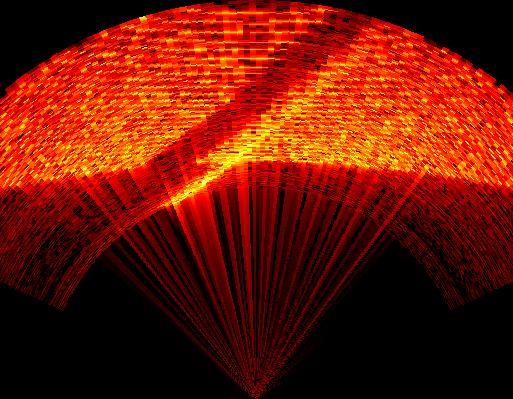pipe: (144, 8, 373, 168)
